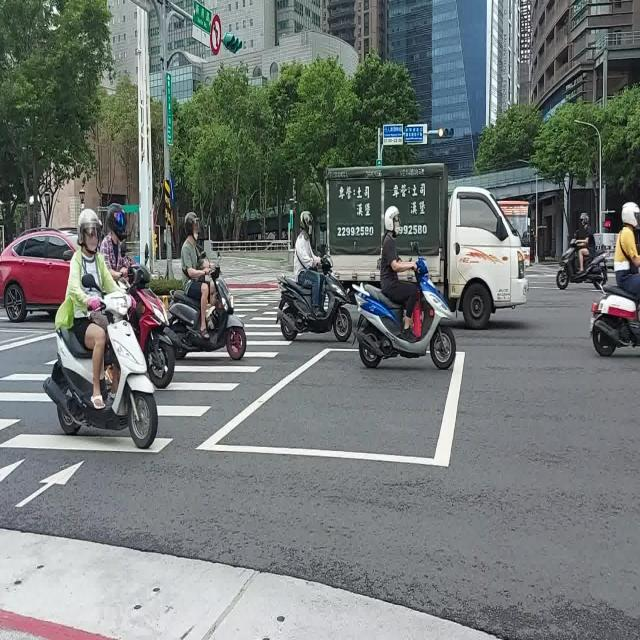bus: (499, 200, 530, 263)
car: (0, 227, 76, 322)
crosswalk: (0, 304, 294, 454), (0, 352, 59, 431), (234, 288, 281, 317)
motocycle: (44, 289, 158, 449), (354, 258, 456, 369), (170, 264, 246, 361), (276, 253, 352, 342), (129, 267, 174, 389), (590, 284, 640, 356), (556, 238, 608, 289), (609, 307, 636, 320)
trunk: (326, 162, 529, 327)
